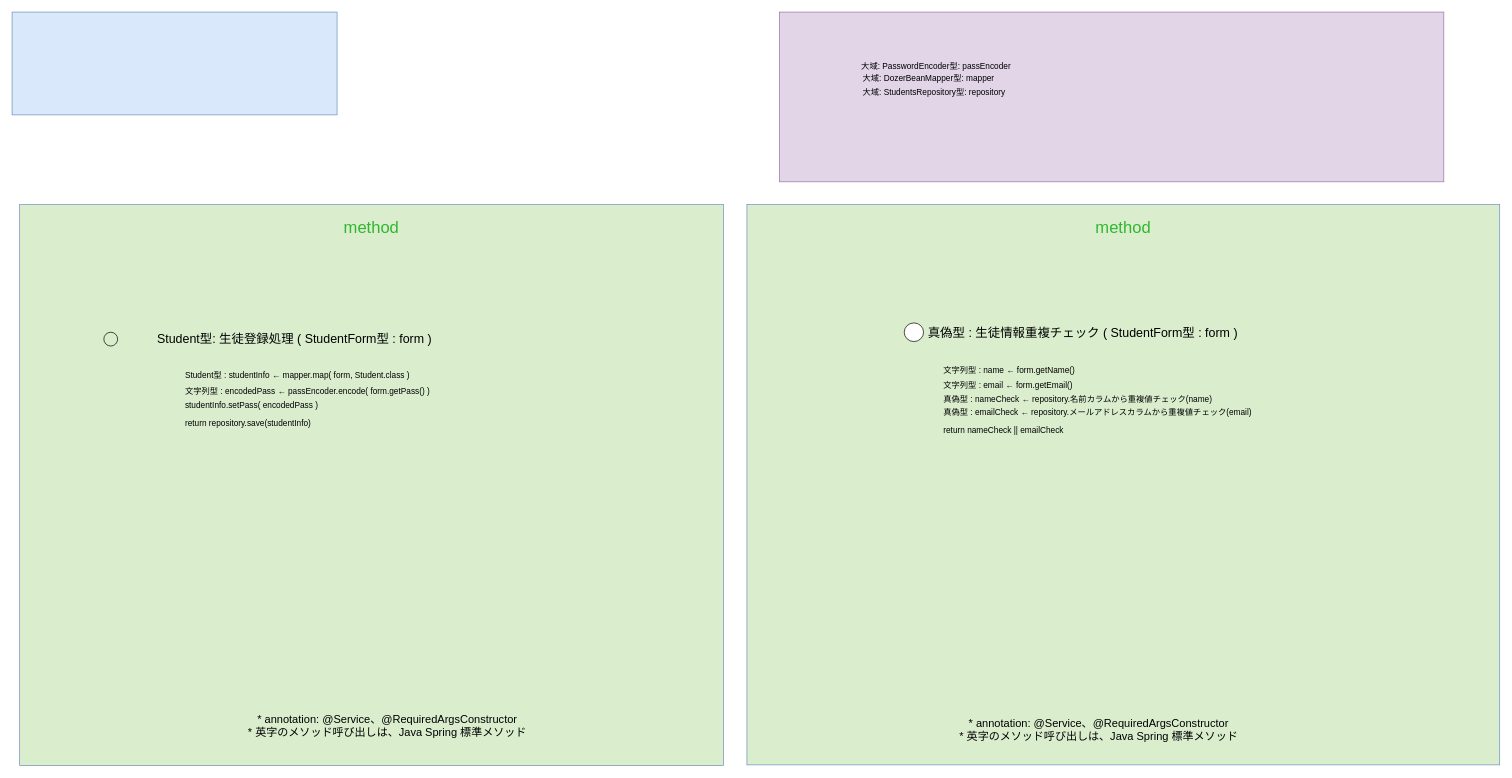
Image size: 1512x778. Some labels were removed from this diagram. Here are the shapes that lost their labels. From the top down, the box of each, then its label:
(11, 11, 337, 115): class 生徒登録サービス群
(779, 11, 1444, 182): 大域 field
